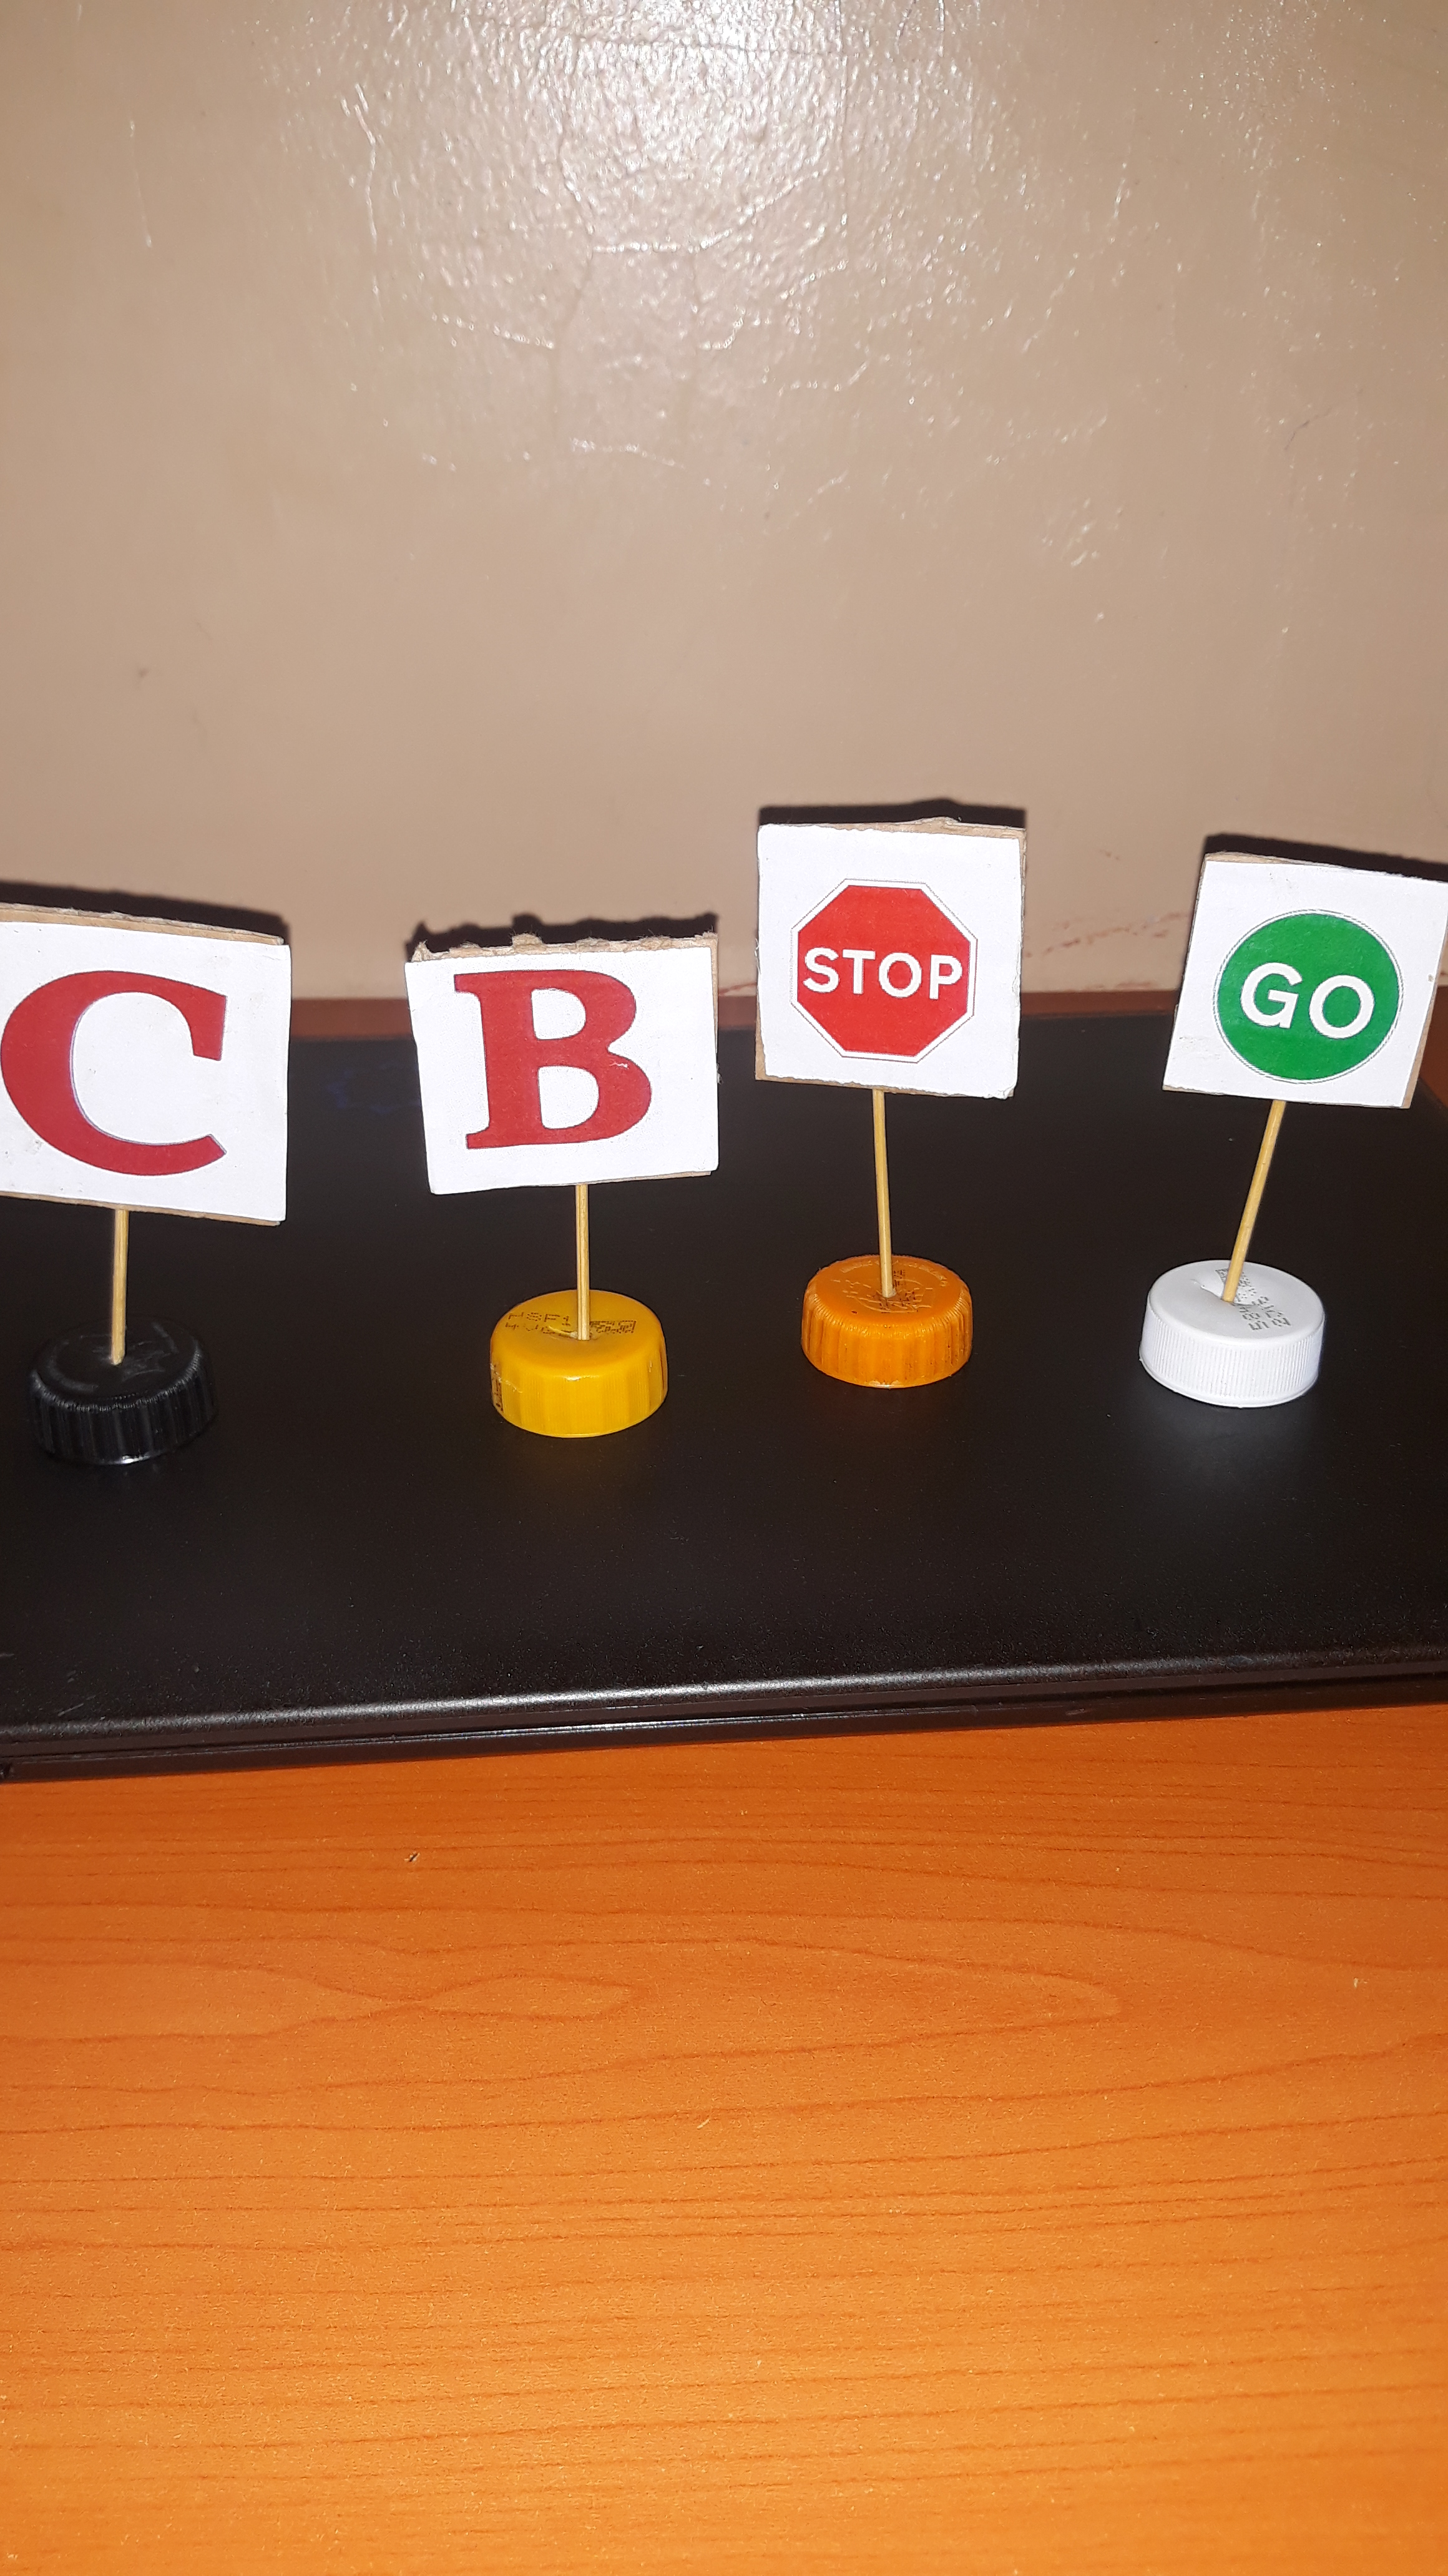go: (1207, 883, 1411, 1085)
stop: (779, 839, 997, 1085)
zone B: (443, 952, 689, 1178)
zone C: (2, 945, 271, 1191)
